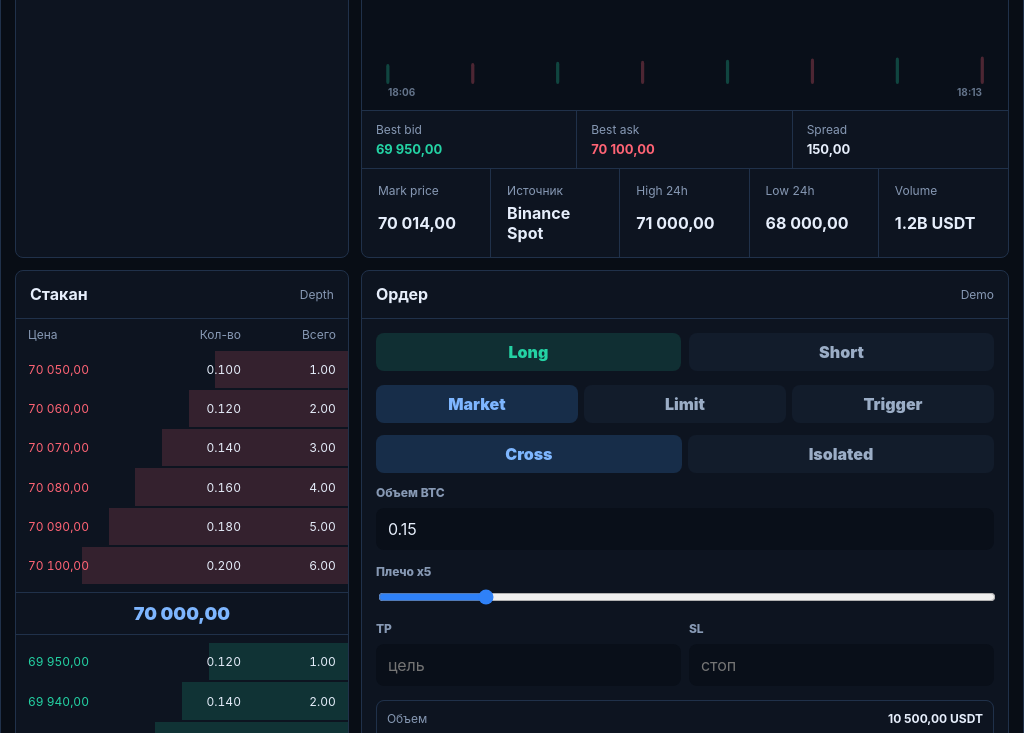
HomeView exchange terminal › changes the order side after user clicks Short
(page scrolled)
Click the button "Short". click: {"x": 841, "y": 352}
box: [689,333,994,371]
(page scrolled)
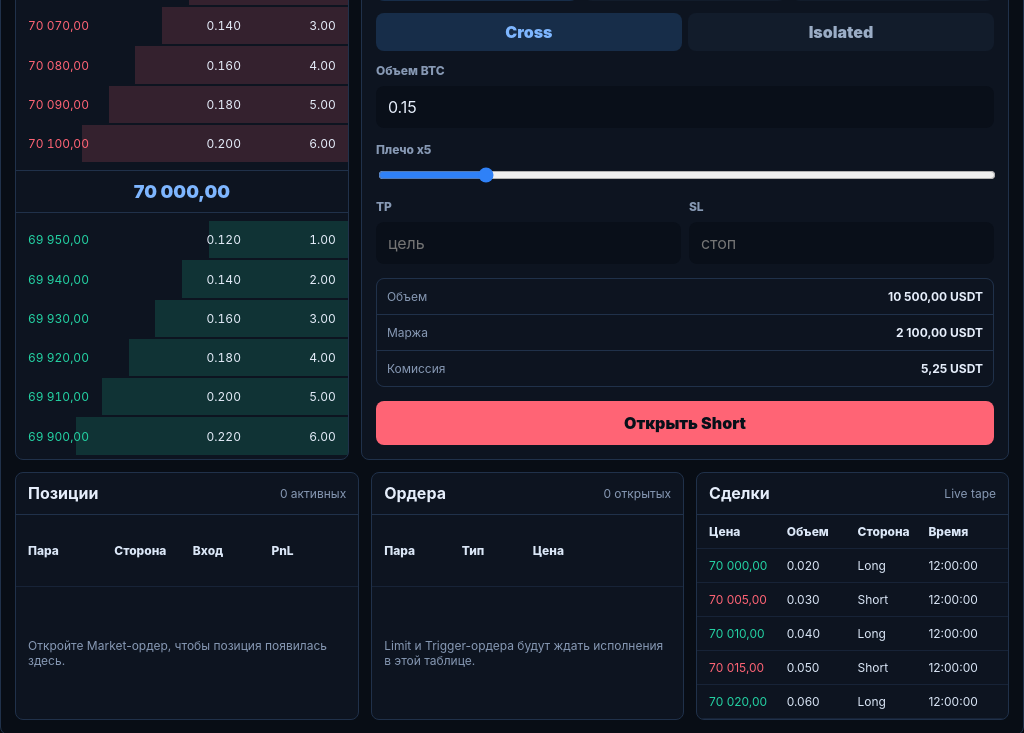
Now the button with class "trade-button" reads "Открыть Short", box [376,401,994,445]
